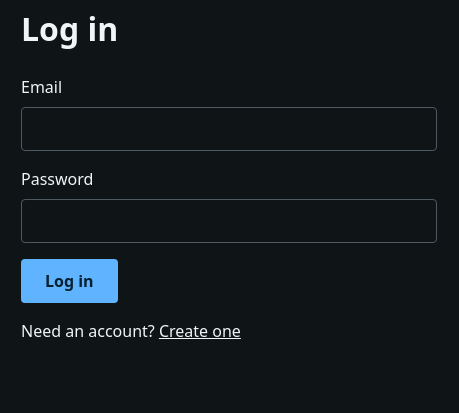
Scenario: Login (S-03, docs/32_UX/Screen_Inventory.md §3) › shows the same failure message for a wrong password as for an unknown account
Type "alice@example.com" into the field labelled "Email" at (229, 129), box top-left (21, 107), bottom-right (437, 151)
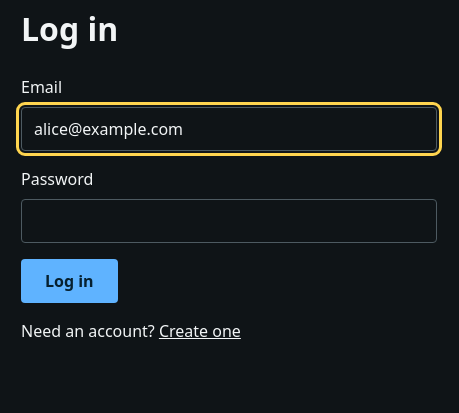
Type "wrong-password" into the password field labelled "Password" at (229, 221), box top-left (21, 199), bottom-right (437, 243)
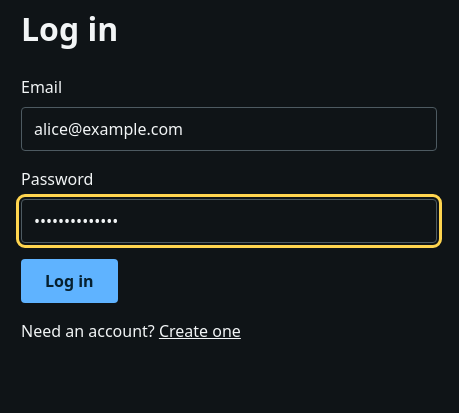
Click the button "Log in" at (69, 281), box top-left (21, 259), bottom-right (118, 303)
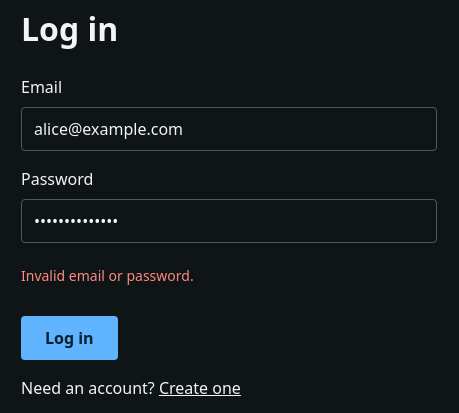
Now the message reads "Invalid email or password.", box top-left (21, 266), bottom-right (194, 285)
